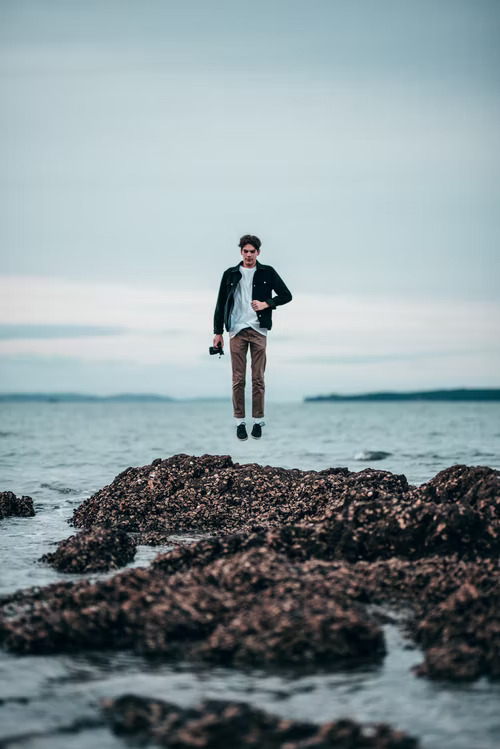person: (211, 234, 292, 441)
